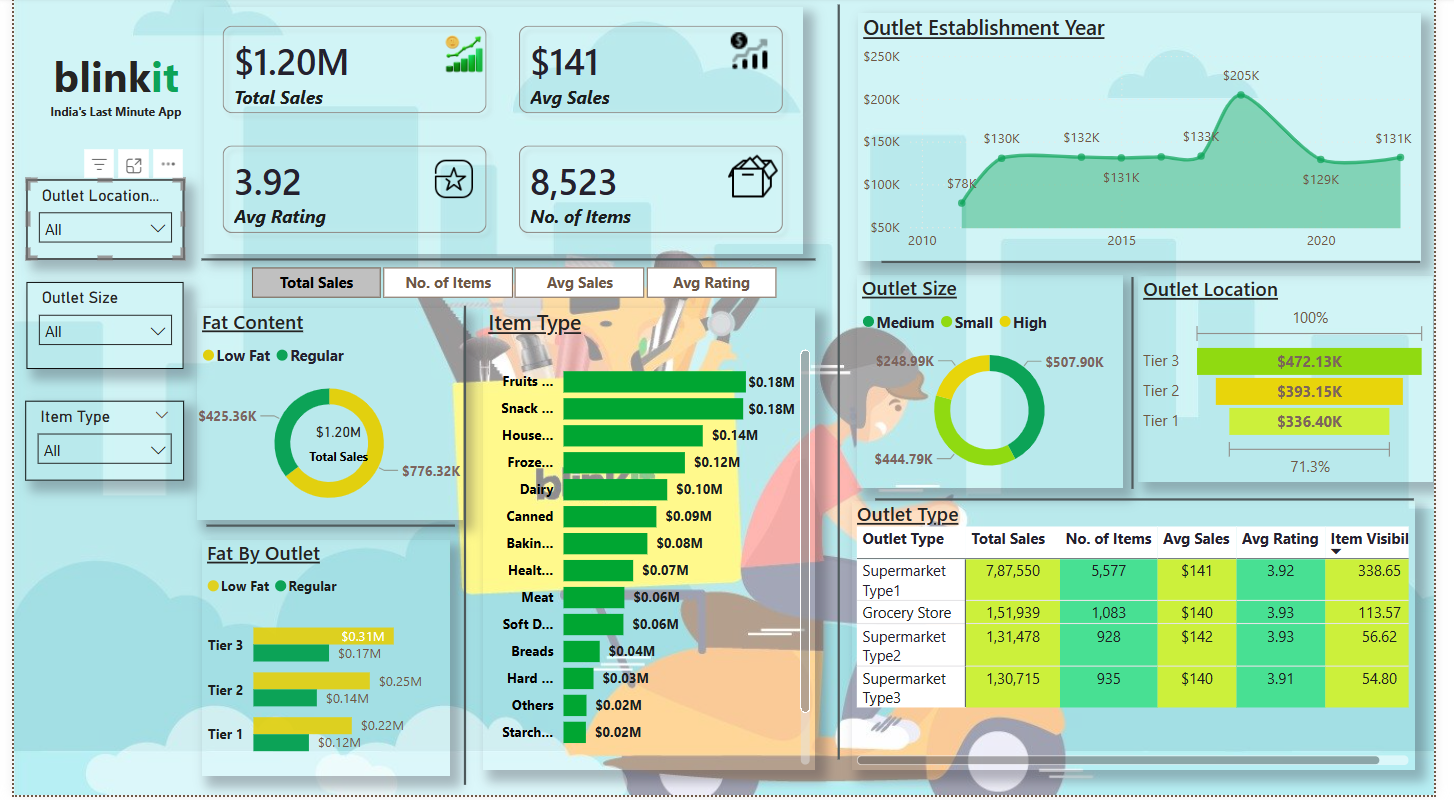

The page's visual inventory and layout, read from the dashboard file:
{"tool":"powerbi","page":{"name":"Page 1","canvas":[1280,720],"ordinal":0},"visuals":[{"type":"textbox","box":[14.9,88.3,154.3,32.3],"z":1000},{"type":"textbox","box":[11.2,41.1,161.7,63.4],"z":2000},{"type":"cardVisual","fields":{"Data":["BlinkIT Grocery Data.Total Sales","BlinkIT Grocery Data.Avg Sales","BlinkIT Grocery Data.Avg Rating","BlinkIT Grocery Data.No. of Items"]},"box":[171.7,8.7,539.9,222.7],"z":3000},{"type":"donutChart","title":"Fat Content","fields":{"Y":["BlinkIT Grocery Data.Total Sales"],"Category":["BlinkIT Grocery Data.Item Fat Content"]},"box":[164.2,281.1,240.1,191.6],"z":5000},{"type":"card","fields":{"Values":["BlinkIT Grocery Data.Total Sales"]},"box":[242.3,374.4,101.3,52.6],"z":6000},{"type":"barChart","title":"Item Type","fields":{"Y":["BlinkIT Grocery Data.Total Sales"],"Category":["BlinkIT Grocery Data.Item Type"]},"box":[423.1,280.8,300,416.7],"z":7000},{"type":"shape","box":[389.7,278.2,33.3,432.1],"z":8000},{"type":"shape","box":[169.2,223.1,553.8,26.9],"z":9000},{"type":"shape","box":[173.1,459,224.4,35.9],"z":10000},{"type":"clusteredBarChart","title":"Fat By Outlet","fields":{"Y":["BlinkIT Grocery Data.Total Sales"],"Category":["BlinkIT Grocery Data.Outlet Location Type"],"Series":["BlinkIT Grocery Data.Item Fat Content"]},"box":[169.2,488.9,223.9,214],"z":11000},{"type":"slicer","fields":{"Values":["metrixs.metrixs"]},"box":[188.5,237.2,523.1,41],"z":12000},{"type":"shape","box":[726.9,6.4,33.3,680.8],"z":13000},{"type":"lineChart","title":"Outlet Establishment Year","fields":{"Category":["BlinkIT Grocery Data.Outlet Establishment Year"],"Y":["BlinkIT Grocery Data.Total Sales"]},"box":[760.3,14.1,507.7,223.1],"z":14000},{"type":"shape","box":[782.1,225.6,485.9,26.9],"z":15000},{"type":"donutChart","title":"Outlet Size","fields":{"Y":["BlinkIT Grocery Data.Total Sales"],"Category":["BlinkIT Grocery Data.Outlet Size"]},"box":[760.1,250,240.1,192.8],"z":16000},{"type":"funnel","title":"Outlet Location ","fields":{"Y":["BlinkIT Grocery Data.Total Sales"],"Category":["BlinkIT Grocery Data.Outlet Location Type"]},"box":[1013.8,251.3,266.2,186.6],"z":17000},{"type":"shape","box":[992.3,252.6,33.3,191],"z":18000},{"type":"pivotTable","title":"Outlet Type","fields":{"Rows":["BlinkIT Grocery Data.Outlet Type"],"Values":["BlinkIT Grocery Data.Total Sales","BlinkIT Grocery Data.No. of Items","BlinkIT Grocery Data.Avg Sales","BlinkIT Grocery Data.Avg Rating","Sum(BlinkIT Grocery Data.Item Visibility)"]},"box":[755.1,453.8,507.7,243.6],"z":19000},{"type":"slicer","fields":{"Values":["BlinkIT Grocery Data.Outlet Location Type"]},"box":[11.2,164.2,141.8,72.1],"z":20000},{"type":"slicer","fields":{"Values":["BlinkIT Grocery Data.Item Type"]},"box":[10,364.5,143.1,72.1],"z":21000},{"type":"slicer","fields":{"Values":["BlinkIT Grocery Data.Outlet Size"]},"box":[11.2,257.5,141.8,78.4],"z":22000},{"type":"shape","box":[776.9,439.7,485.9,26.9],"z":23000},{"type":"image","box":[381.6,27,47.9,47.9],"z":24000},{"type":"image","box":[639.4,27.4,49.8,46],"z":25000},{"type":"image","box":[639.4,134.3,54.7,58.5],"z":26000},{"type":"image","box":[366.9,135,60.1,57.7],"z":27000}]}

Visuals, with their boxes in screenshot pixels (x1, y1, x2, y2), scaled from the page's 1280x720 canvas onto the 1454x800 screenshot:
textbox: (17, 98, 192, 134)
textbox: (13, 46, 196, 116)
cardVisual - BlinkIT Grocery Data.Total Sales x BlinkIT Grocery Data.Avg Sales: (195, 10, 808, 257)
"Fat Content" donutChart: (187, 312, 459, 525)
card - BlinkIT Grocery Data.Total Sales: (275, 416, 390, 474)
"Item Type" barChart: (481, 312, 821, 775)
shape: (443, 309, 481, 789)
shape: (192, 248, 821, 278)
shape: (197, 510, 452, 550)
"Fat By Outlet" clusteredBarChart: (192, 543, 447, 781)
slicer - metrixs.metrixs: (214, 264, 808, 309)
shape: (826, 7, 864, 764)
"Outlet Establishment Year" lineChart: (864, 16, 1440, 264)
shape: (888, 251, 1440, 281)
"Outlet Size" donutChart: (863, 278, 1136, 492)
"Outlet Location " funnel: (1152, 279, 1453, 487)
shape: (1127, 281, 1165, 493)
"Outlet Type" pivotTable: (858, 504, 1434, 775)
slicer - BlinkIT Grocery Data.Outlet Location Type: (13, 182, 174, 263)
slicer - BlinkIT Grocery Data.Item Type: (11, 405, 174, 485)
slicer - BlinkIT Grocery Data.Outlet Size: (13, 286, 174, 373)
shape: (883, 489, 1434, 518)
image: (433, 30, 488, 83)
image: (726, 30, 783, 82)
image: (726, 149, 788, 214)
image: (417, 150, 485, 214)
